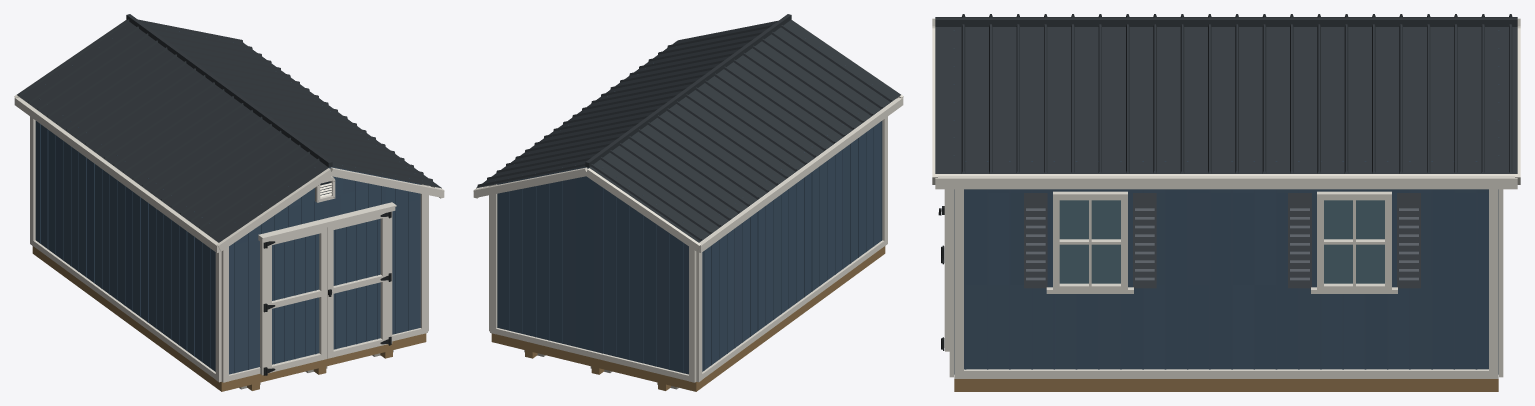
Rendered from 01-basic-utility-shutters.glb.
3 views of the same model, side by side, from view 1: azimuth 30°, elevation 25°; view 2: azimuth 150°, elevation 25°; view 3: azimuth 270°, elevation 25° (orthographic). The views are drawn at different scales.
Parts seen in each view (by area): view 1: Main roof, left wall, front wall double, front wall, Floor platform and skids, front wall arched vent; view 2: Main roof, rear wall, left wall, Floor platform and skids; view 3: Main roof, right wall, right wall window, Louvered window shutters, Floor platform and skids, front wall, rear wall, front wall double.
Boxes of the visible parts, <box> form: Main roof: <box>14,14,444,252</box>; left wall: <box>30,116,221,382</box>; front wall double: <box>258,202,396,375</box>; front wall: <box>221,165,427,382</box>; Floor platform and skids: <box>32,246,426,391</box>; front wall arched vent: <box>315,176,335,202</box>; Main roof: <box>473,14,903,252</box>; rear wall: <box>490,165,696,382</box>; left wall: <box>696,96,887,382</box>; Floor platform and skids: <box>491,246,885,391</box>; Main roof: <box>932,14,1520,189</box>; right wall: <box>954,161,1498,378</box>; right wall window: <box>1046,191,1397,293</box>; Louvered window shutters: <box>1024,193,1420,288</box>; Floor platform and skids: <box>954,379,1498,391</box>; front wall: <box>949,30,954,377</box>; rear wall: <box>1498,30,1503,377</box>; front wall double: <box>938,189,949,351</box>.
Bounding box in the file's own units: 3.39 × 3.1 × 5.27.
